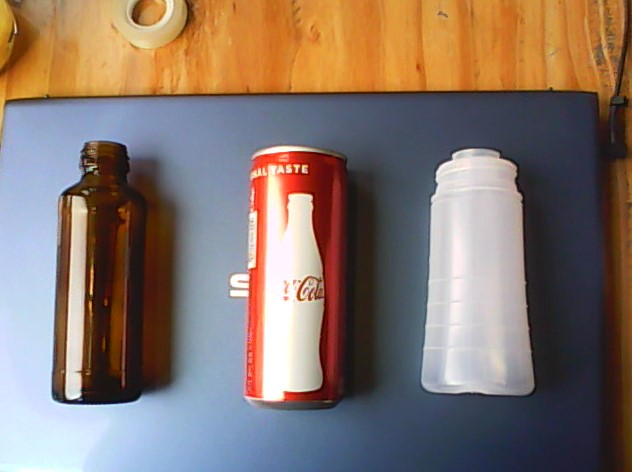Can: (238, 140, 353, 416)
Glass: (46, 138, 152, 407)
Plastic: (416, 140, 537, 402)
